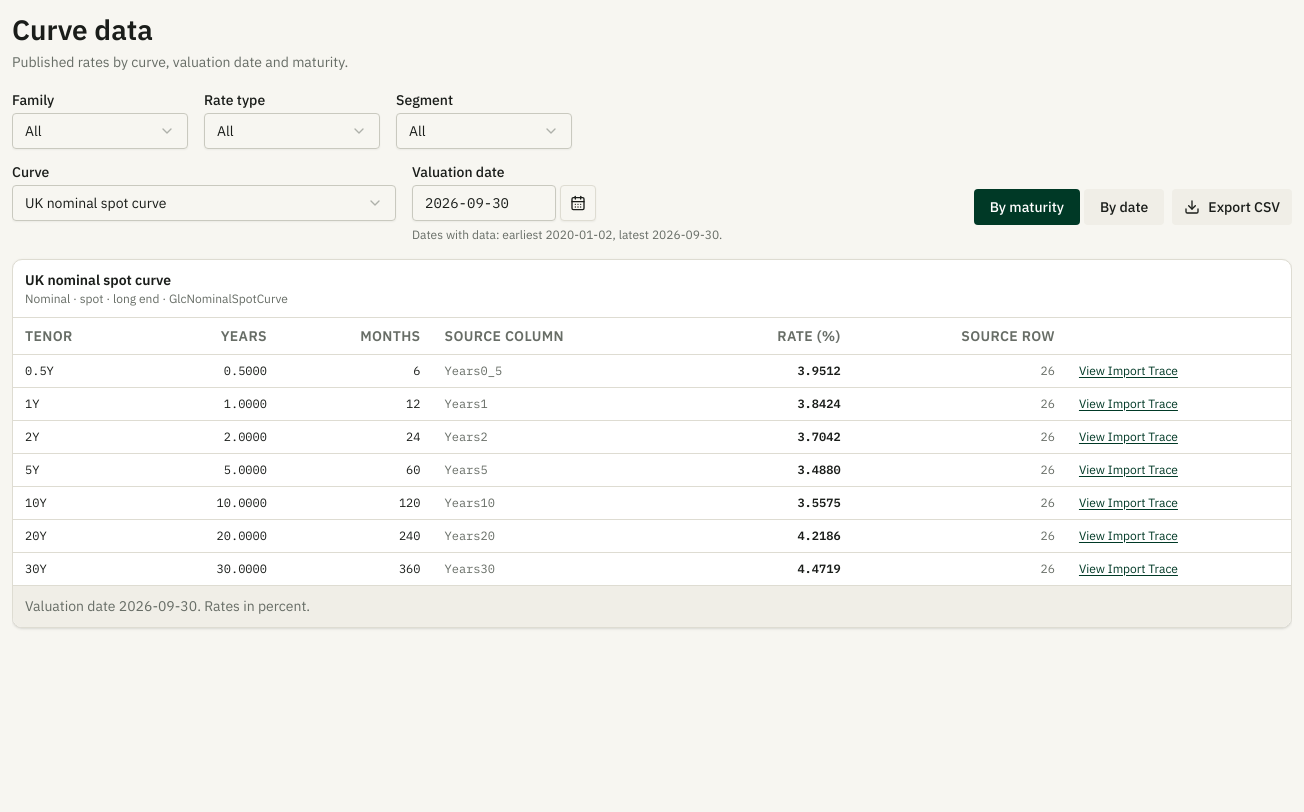
Test: Epic curve-data, Story 1: Rates by maturity › rejects a valuation date not written as YYYY-MM-DD and requests no rates for it
Replace the text in the field labelled "Valuation date" with "04/10/2026" at (484, 203), box [412,185,556,221]
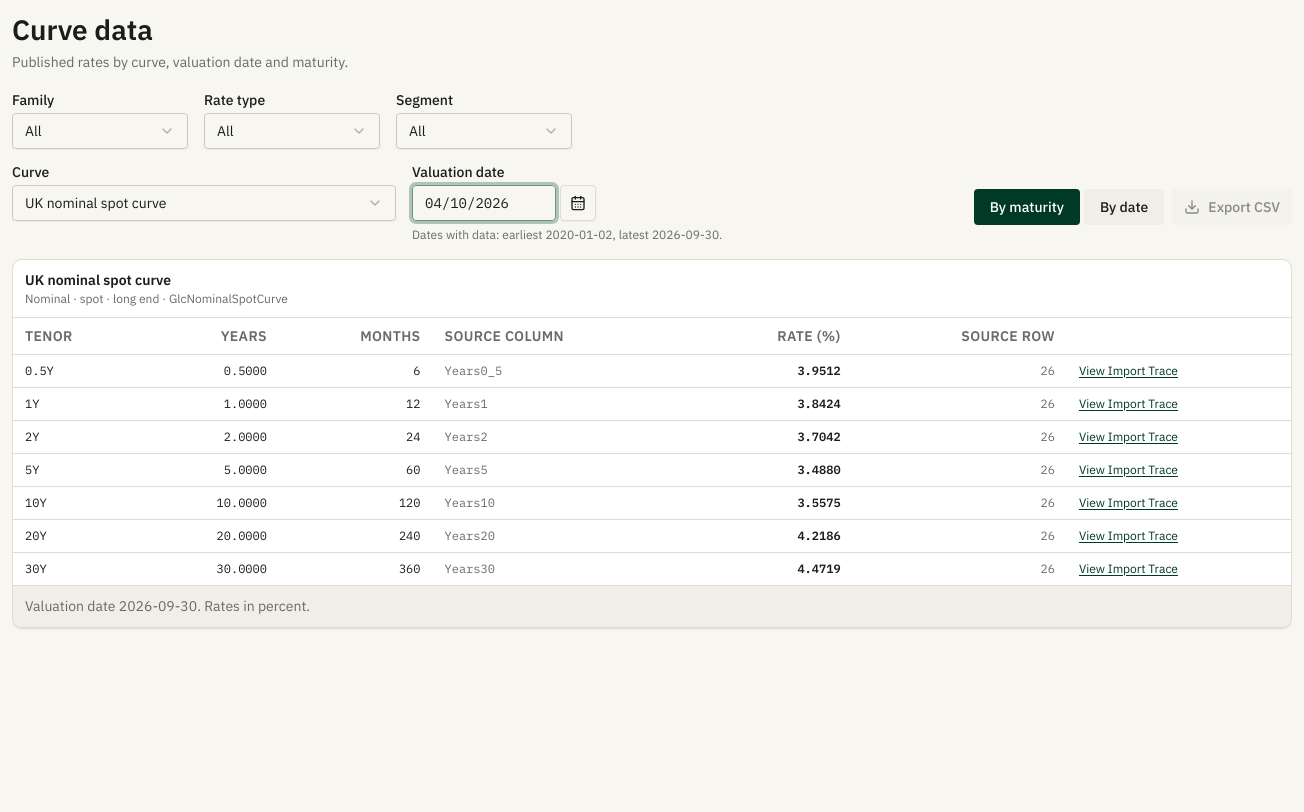
Press Tab
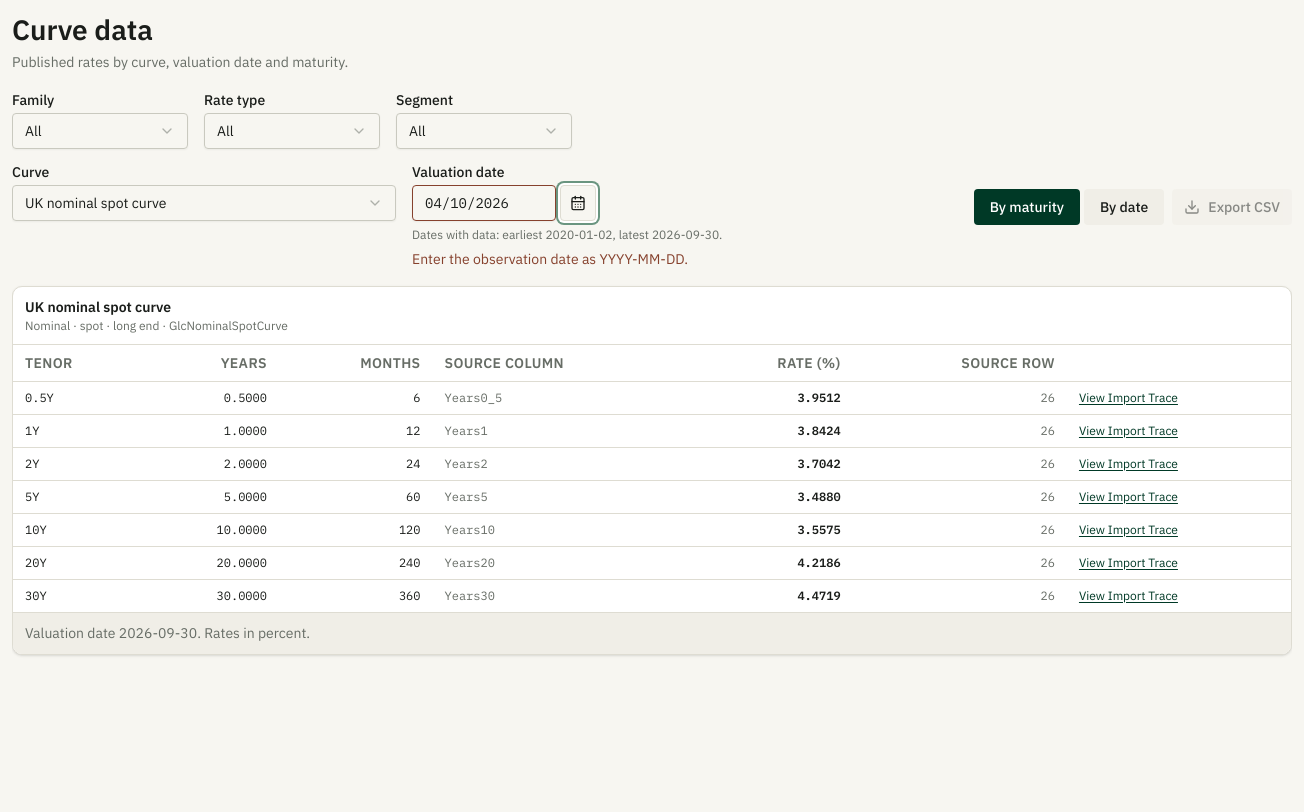
expect the text "Enter the observation date as YYYY-MM-DD." is shown: met, box [412,249,722,270]
